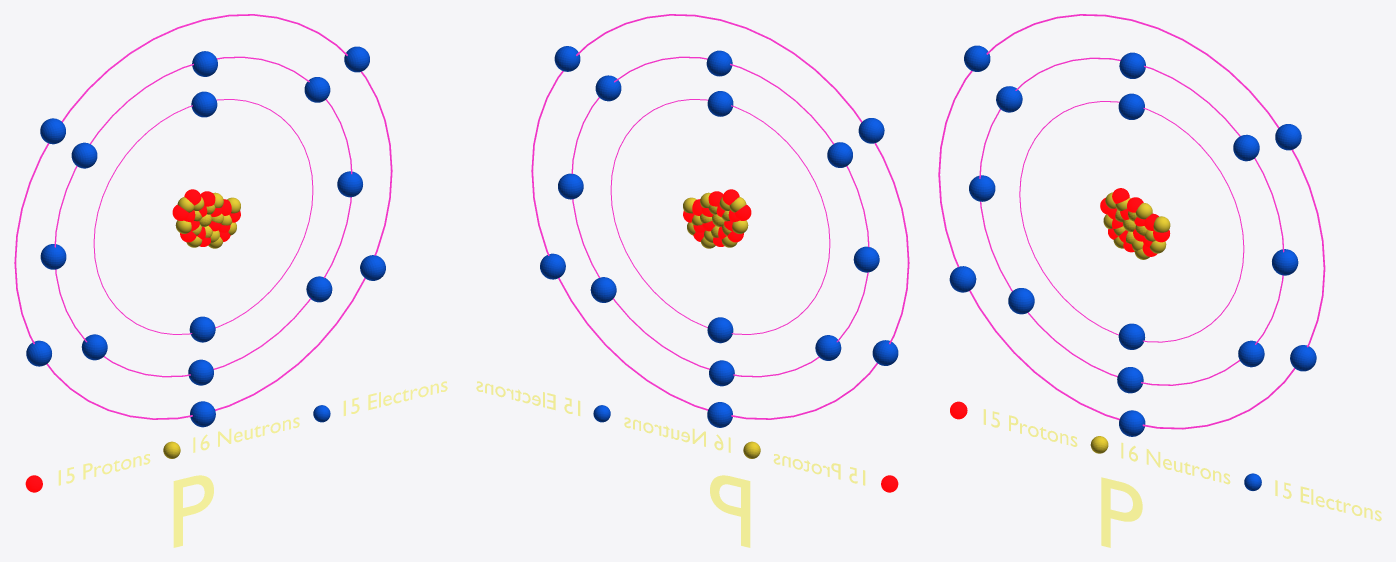
The model's file is phosphorus.glb.
The picture shows the model from 3 angles, left to right: view 1: azimuth 30°, elevation 25°; view 2: azimuth 150°, elevation 25°; view 3: azimuth 330°, elevation 25°; orthographic projection. The views are drawn at different scales.
Parts seen in each view (by area): view 1: BézierCircle.002, BézierCircle.001, Text, BézierCircle, Text.002, Text.003, Sphere.002, Sphere.026, Sphere.030, Sphere.001, Sphere.048, Sphere.020 (+10 smaller); view 2: BézierCircle.002, BézierCircle.001, Text, BézierCircle, Text.002, Text.003, Sphere.016, Sphere.001, Sphere.015, Sphere.022, Sphere.032, Sphere.020 (+10 smaller); view 3: BézierCircle.002, BézierCircle.001, Text, BézierCircle, Text.003, Text.002, Sphere.022, Sphere.002, Sphere.020, Sphere.033, Sphere.015, Sphere.026 (+10 smaller).
Boxes of the visible parts, x1,y1,x2,y2 form: BézierCircle.002: (14,14,392,419); BézierCircle.001: (54,56,352,377); Text: (173,475,213,547); BézierCircle: (93,99,313,334); Text.002: (193,417,299,452); Text.003: (343,381,447,415); Sphere.002: (191,91,217,117); Sphere.026: (71,142,97,168); Sphere.030: (306,276,332,302); Sphere.001: (189,316,215,342); Sphere.048: (40,118,65,144); Sphere.020: (81,334,107,360); BézierCircle.002: (531,14,909,419); BézierCircle.001: (571,56,869,377); Text: (710,475,750,547); BézierCircle: (610,99,830,334); Text.002: (624,417,730,452); Text.003: (476,381,580,415); Sphere.016: (853,246,879,272); Sphere.001: (707,317,733,343); Sphere.015: (706,50,732,76); Sphere.022: (595,75,621,101); Sphere.032: (709,360,734,386); Sphere.020: (815,335,841,360); BézierCircle.002: (938,14,1325,429); BézierCircle.001: (979,57,1284,385); Text: (1101,477,1142,547); BézierCircle: (1019,101,1244,342); Text.003: (1275,480,1381,521); Text.002: (1121,442,1230,484); Sphere.022: (1233,134,1259,161); Sphere.002: (1118,93,1144,119); Sphere.020: (1008,288,1034,314); Sphere.033: (949,266,976,292); Sphere.015: (1119,52,1145,78); Sphere.026: (996,86,1022,112).
Bounding box in the file's own units: 4.62 × 5.32 × 0.2925.
